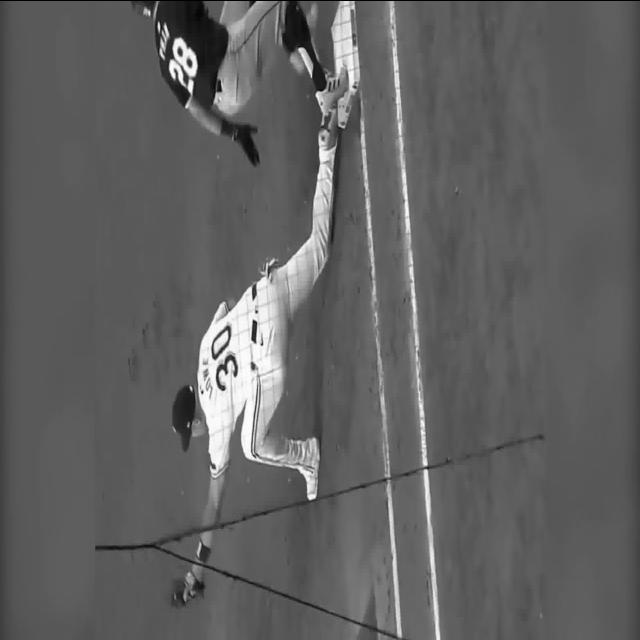base: (334, 0, 362, 126)
baseball_glove: (163, 560, 211, 616)
shoe: (314, 65, 348, 115), (304, 436, 320, 500), (317, 109, 338, 150)
